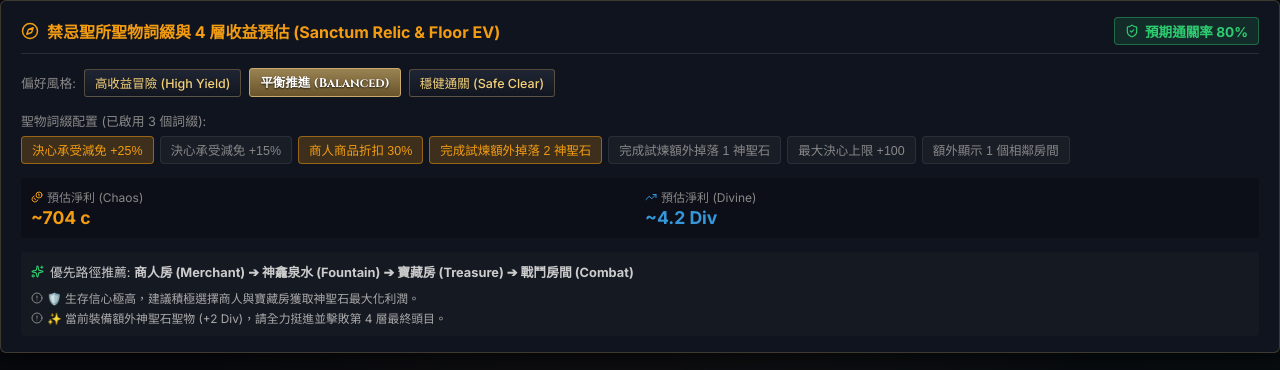
Test case: SanctumRelicCard › toggles an affix on and off
Expected: the text "聖物詞綴配置 (已啟用 3 個詞綴):" is shown, [21,114,206,129]
Click the button "最大決心上限 +100". click: (852, 150)
box: [787,136,916,164]
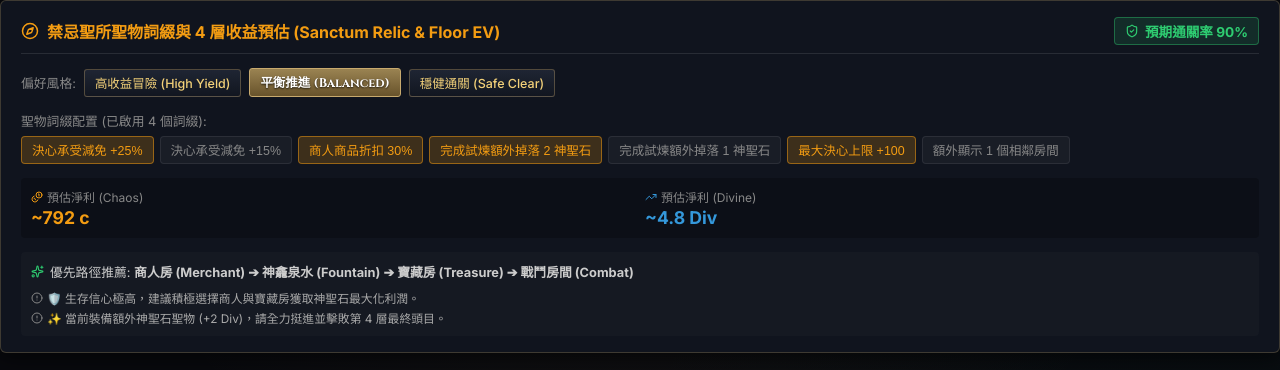
Now the text "聖物詞綴配置 (已啟用 4 個詞綴):" is shown, box [21,114,207,129]
Click the button "最大決心上限 +100". click: (852, 150)
box: [787,136,916,164]
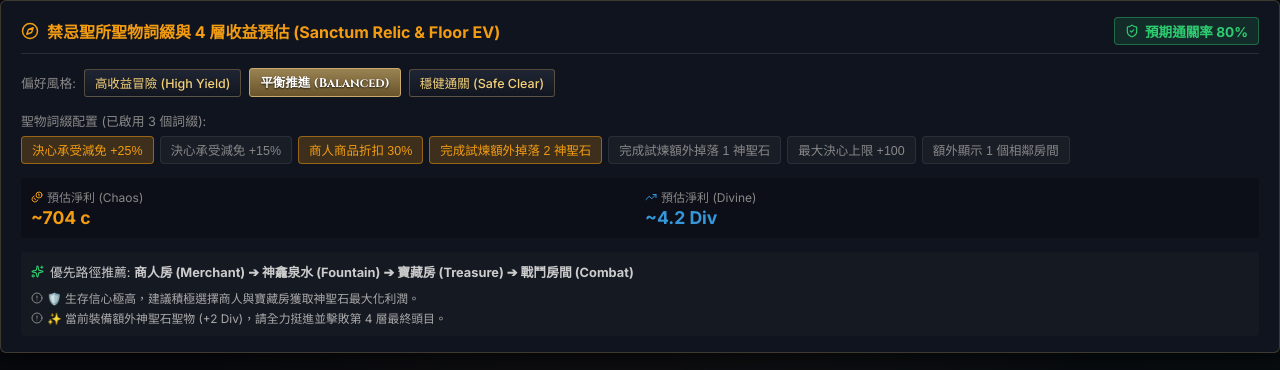
Now the text "聖物詞綴配置 (已啟用 3 個詞綴):" is shown, box [21,114,206,129]
